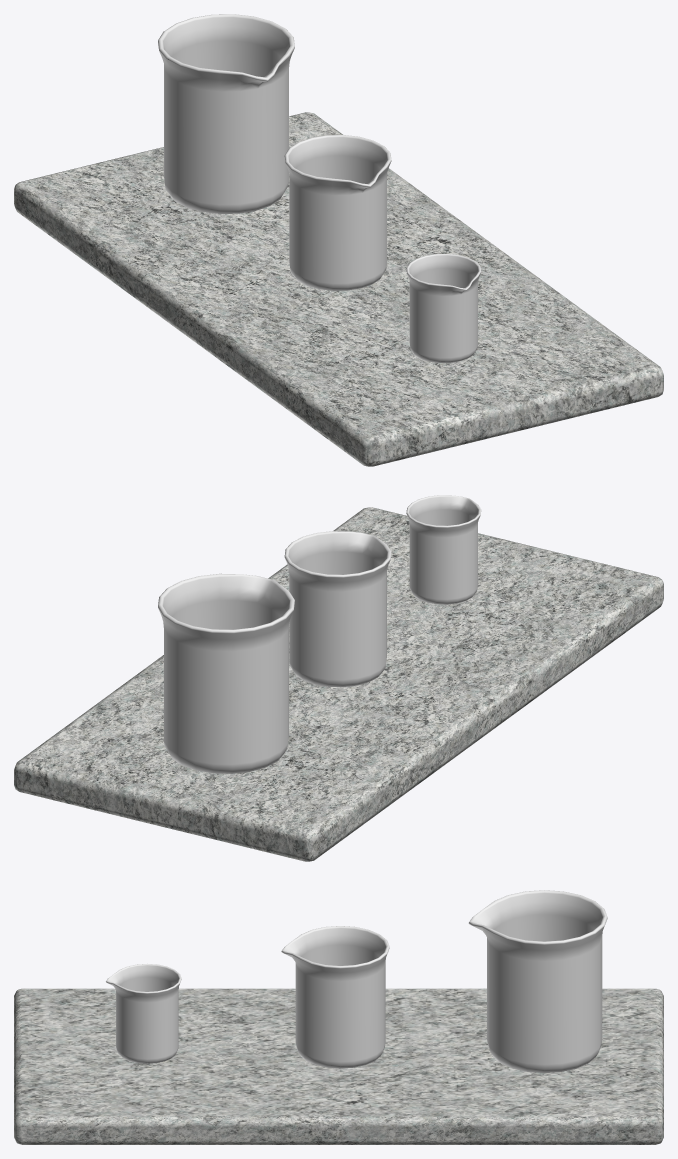
The model's file is mo-hinh-3d..gltf.
The picture shows the model from 3 angles, top to bottom: view 1: azimuth 30°, elevation 25°; view 2: azimuth 150°, elevation 25°; view 3: azimuth 270°, elevation 25°; orthographic projection. The views are drawn at different scales.
Visible parts, largest first — view 1: Cube, Bequer_500mL, Bequer_250mL, Bequer_100mL; view 2: Cube, Bequer_500mL, Bequer_250mL, Bequer_100mL; view 3: Cube, Bequer_500mL, Bequer_250mL, Bequer_100mL.
Boxes of the visible parts, bbox=[...] form: Cube: bbox=[14, 112, 663, 466]; Bequer_500mL: bbox=[158, 14, 294, 213]; Bequer_250mL: bbox=[284, 135, 391, 290]; Bequer_100mL: bbox=[406, 254, 481, 362]; Cube: bbox=[14, 507, 663, 861]; Bequer_500mL: bbox=[158, 573, 294, 773]; Bequer_250mL: bbox=[284, 531, 391, 687]; Bequer_100mL: bbox=[406, 495, 481, 604]; Cube: bbox=[14, 988, 663, 1144]; Bequer_500mL: bbox=[468, 890, 607, 1072]; Bequer_250mL: bbox=[281, 926, 389, 1068]; Bequer_100mL: bbox=[106, 964, 181, 1063].
Bounding box in the file's own units: 0.3149 × 0.18 × 0.6436.
